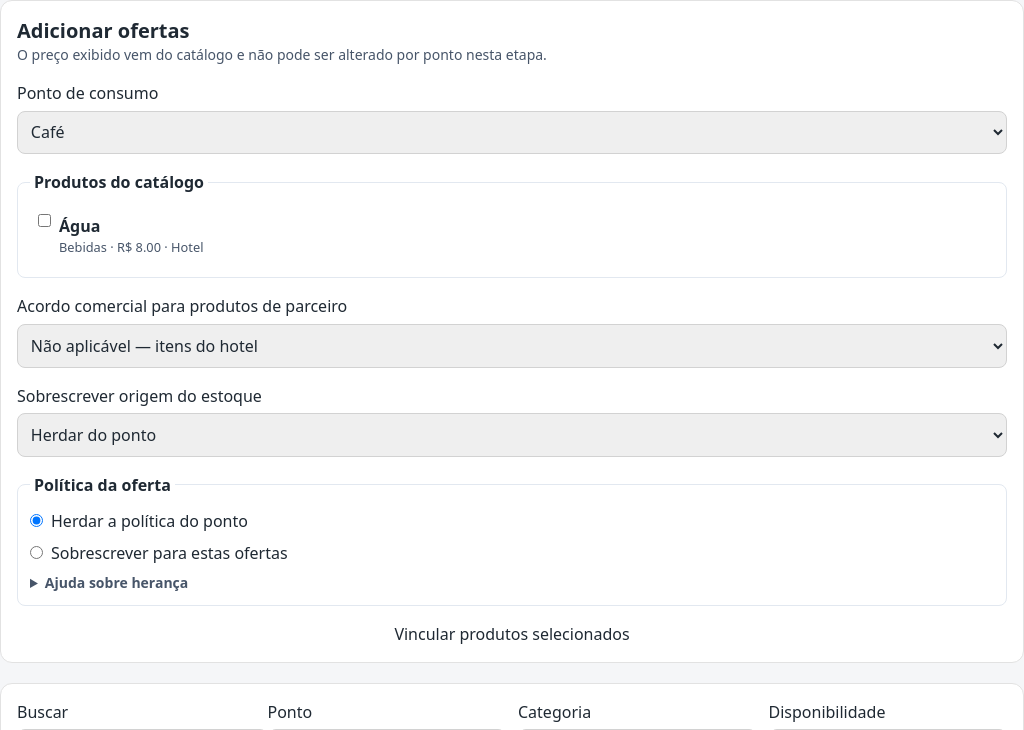
Test case: ConsumptionOffersManager inventory origins › offers only active positions for the selected product
This screenshot has width=1024, height=730.
Click the checkbox labelled "Água Bebidas · R$ 8.00 · Hotel". click: (44, 221)
box: [38, 214, 51, 227]
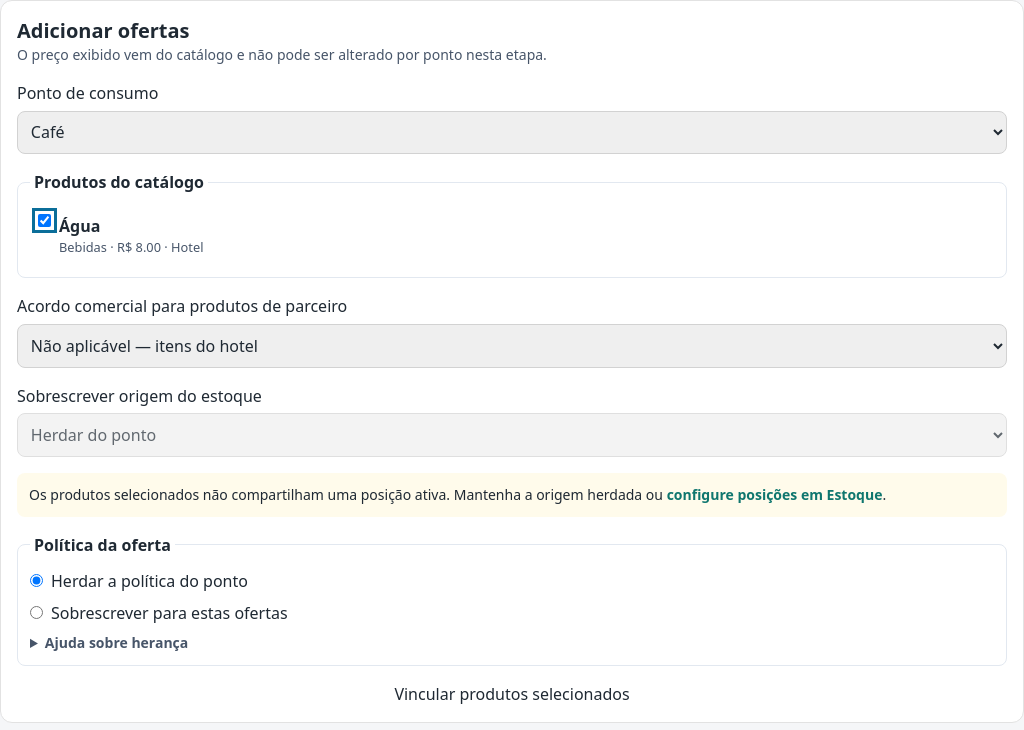
Expected: the text "não compartilham uma posição ativa" is shown, [29, 485, 663, 504]
Expected: the dropdown labelled "Sobrescrever origem do estoque" is disabled, [17, 413, 1007, 457]
Expected: the link "configure posições em Estoque" is shown, [667, 485, 882, 504]
